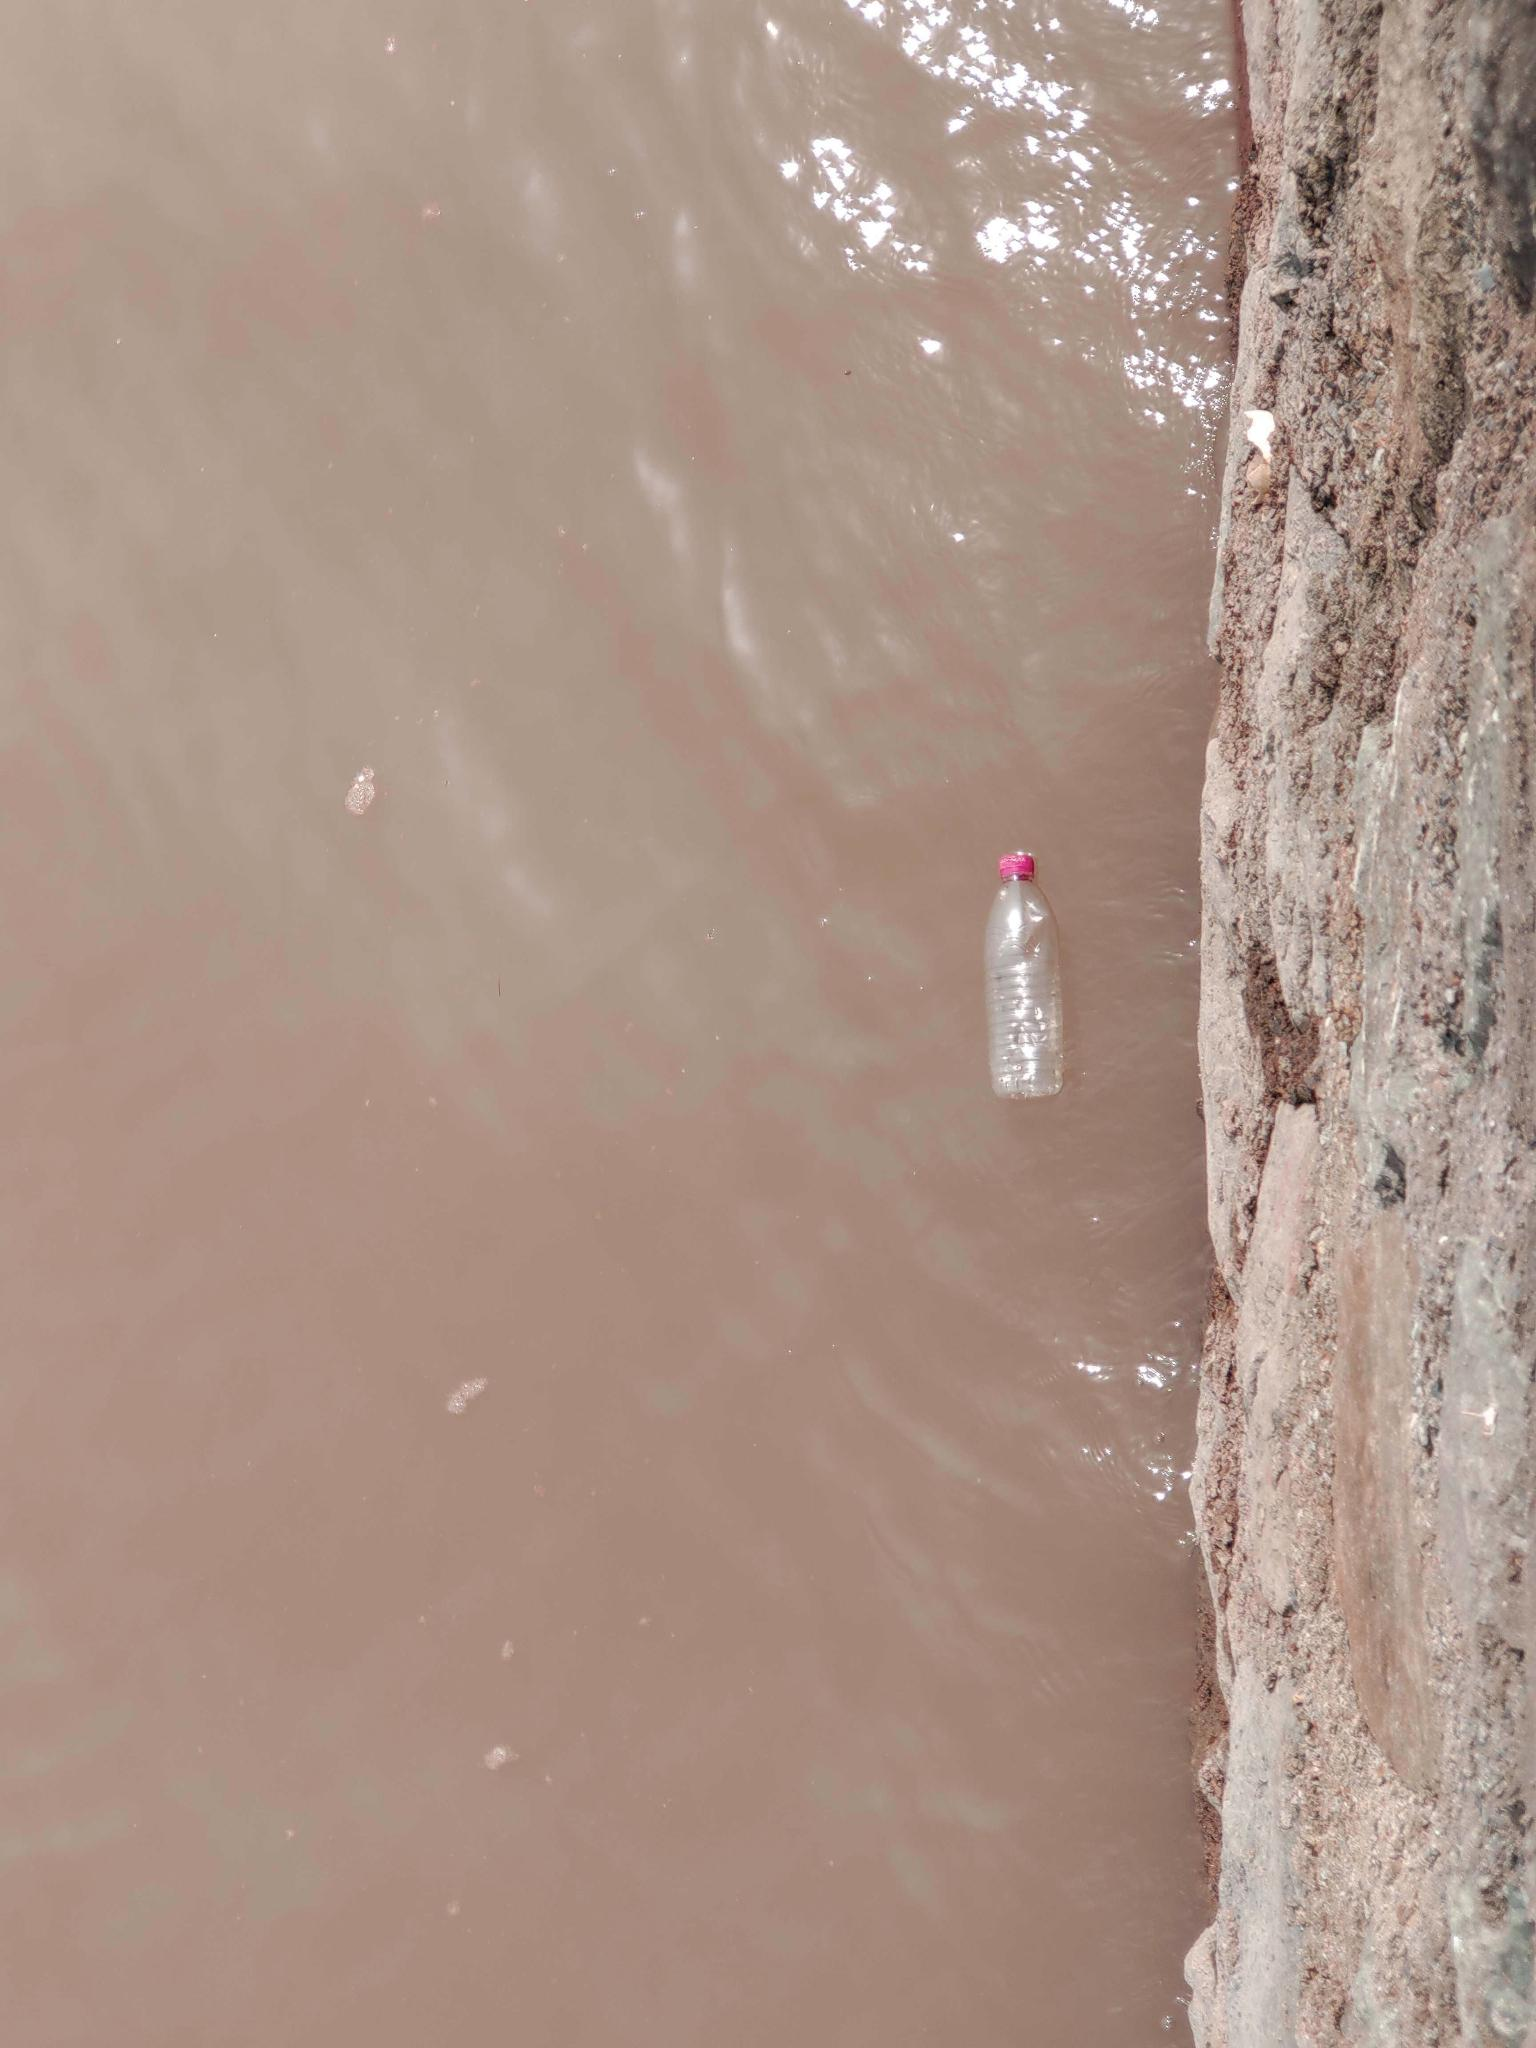Plastic: (973, 851, 1068, 1106)
